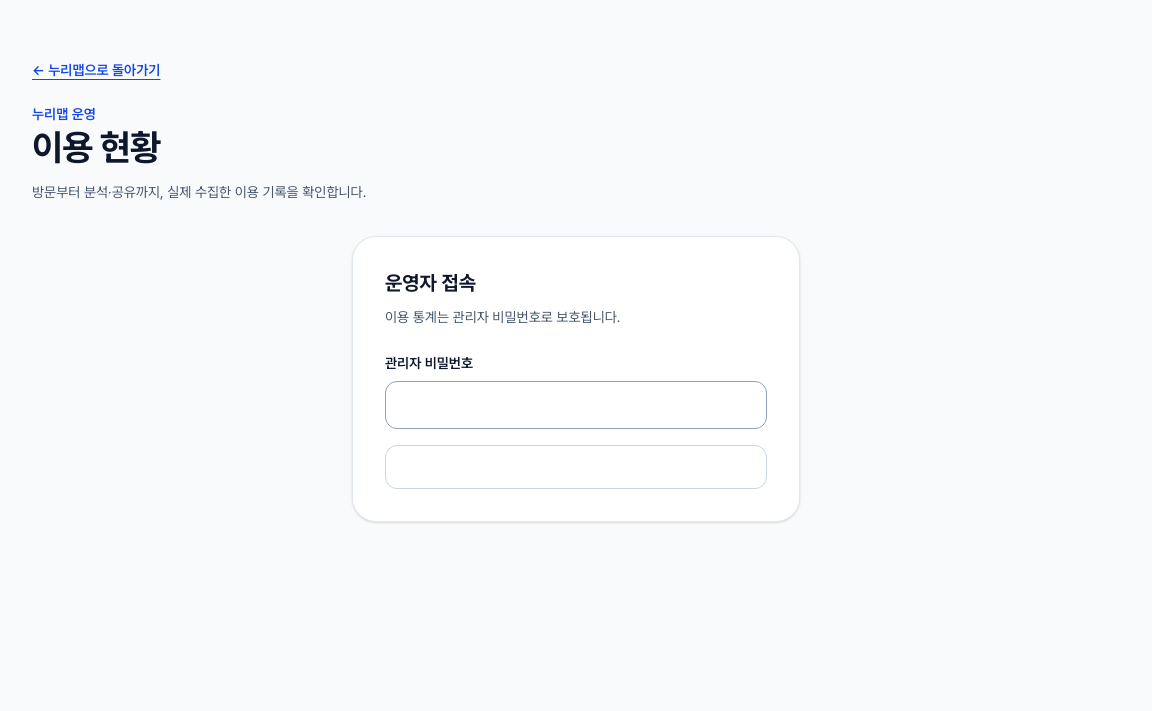
UsageDashboard › shows no numbers when unauthorized and submits password only to access API
Check: the heading "방문 브라우저 일수" is not shown
Type "temporary-test-password" into the password field labelled "관리자 비밀번호" at {"x": 576, "y": 405}, box x1=385 y1=381 x2=767 y2=429
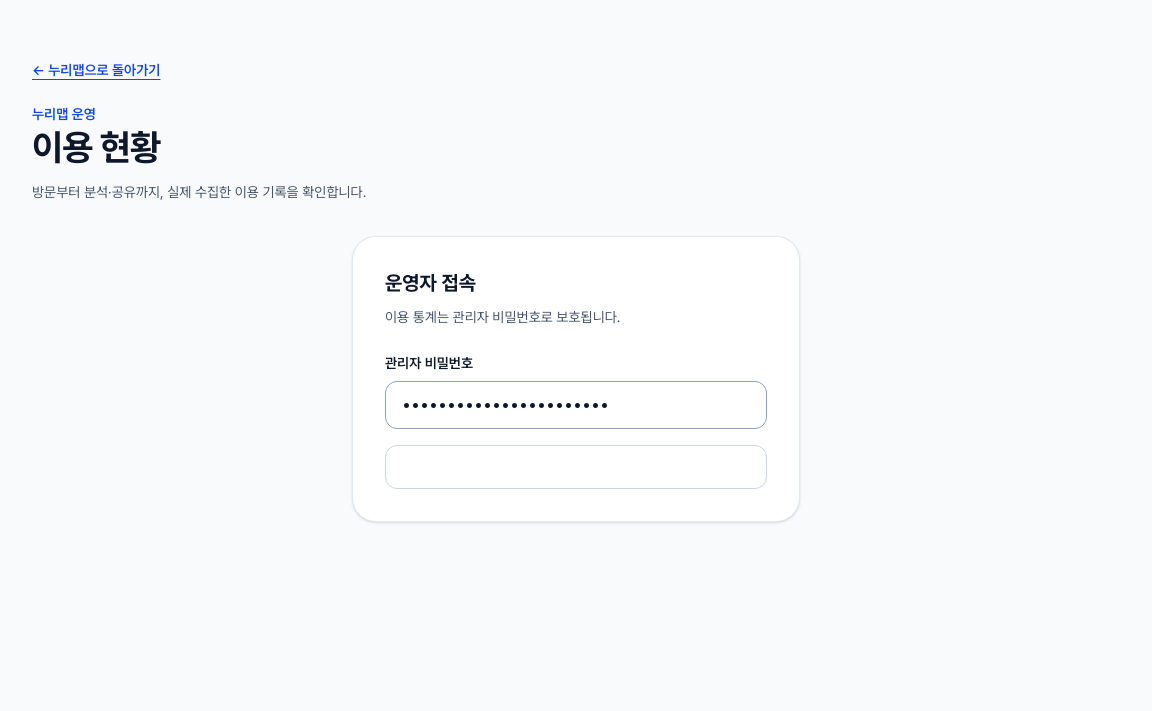
Click the button "대시보드 열기" at {"x": 576, "y": 467}, box x1=385 y1=445 x2=767 y2=489
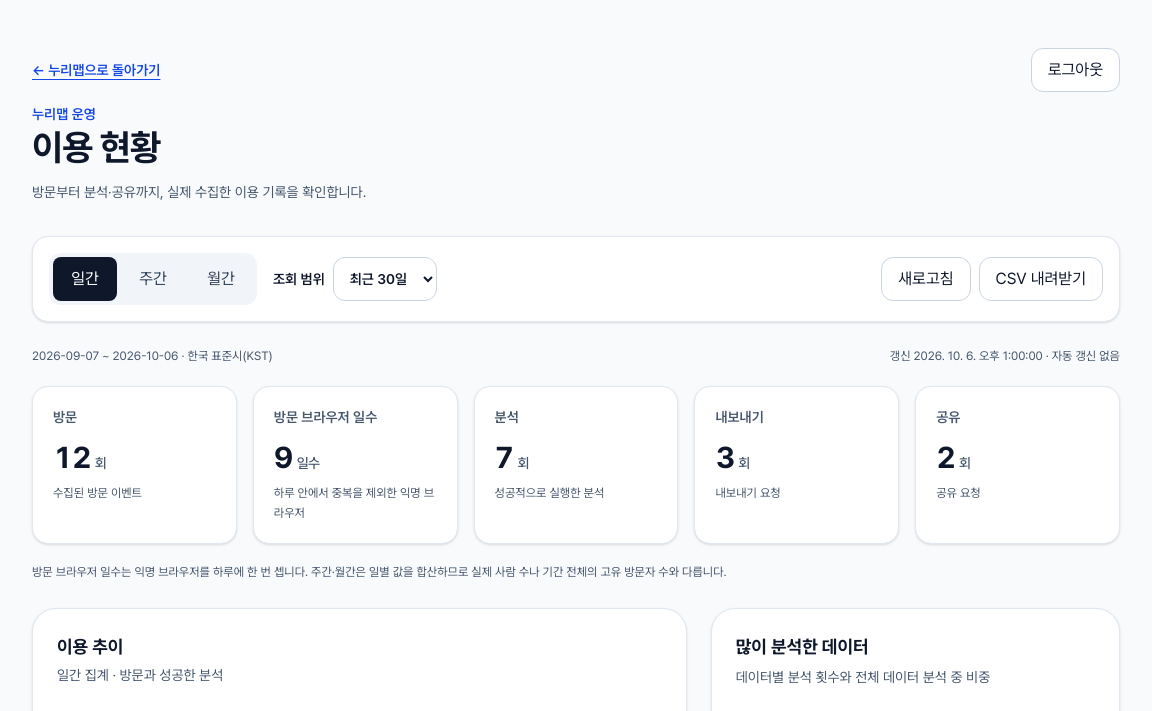
Check: the heading "방문 브라우저 일수" is shown, box x1=274 y1=409 x2=377 y2=425
Click the button "로그아웃" at {"x": 1075, "y": 70}, box x1=1031 y1=48 x2=1120 y2=92
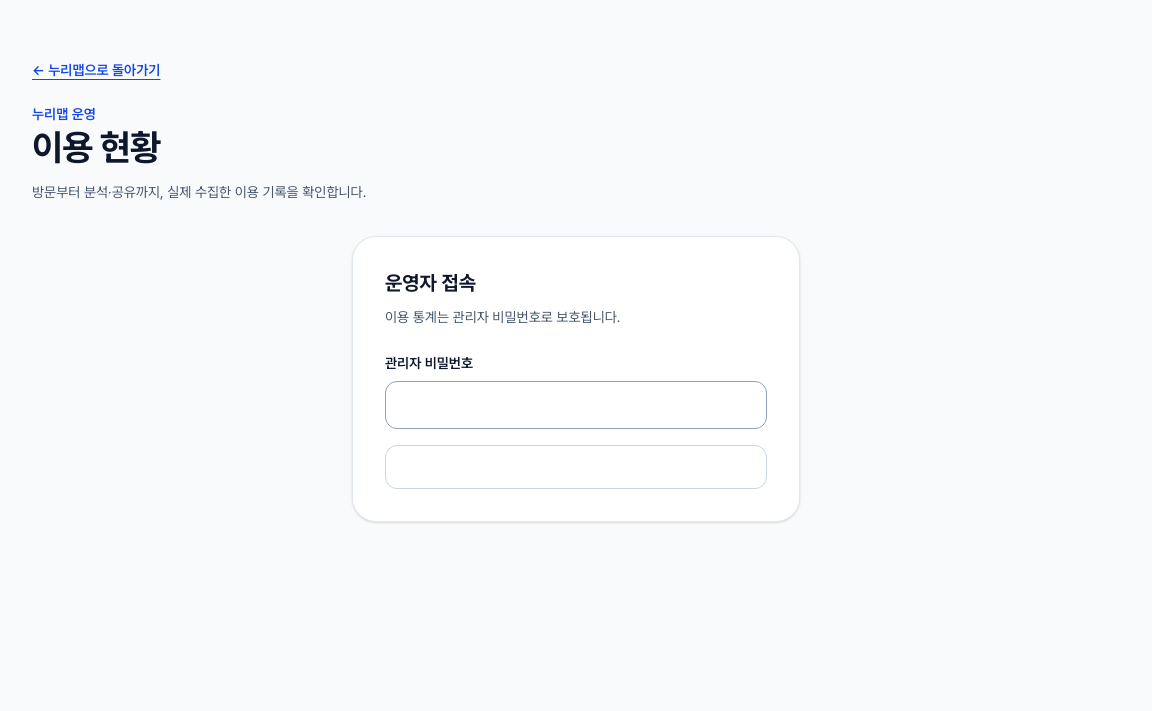
Check: the password field labelled "관리자 비밀번호" is shown, box x1=385 y1=381 x2=767 y2=429
Check: the heading "방문 브라우저 일수" is gone
